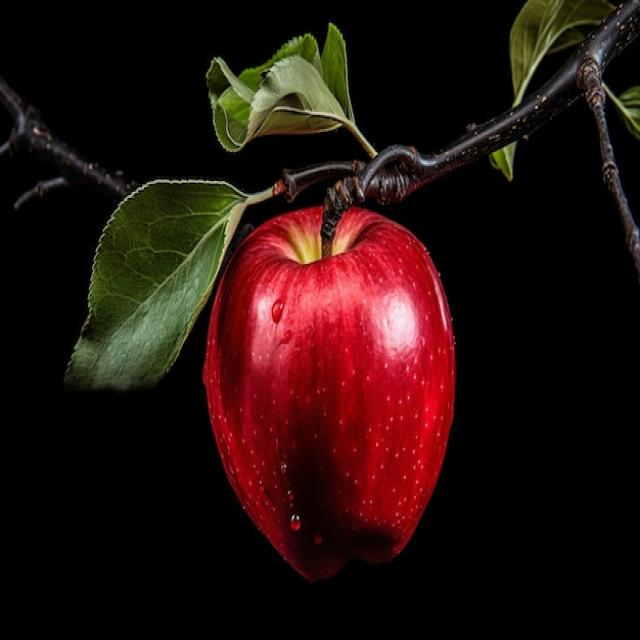apple_fruit: (195, 196, 465, 595)
